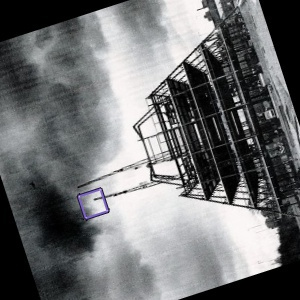square: (74, 186, 112, 221)
